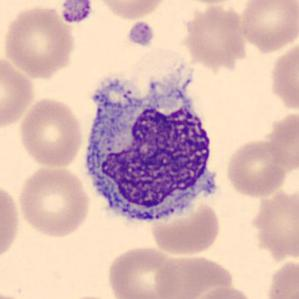Monocyte: (76, 72, 228, 232)
Platelets: (58, 0, 94, 25), (126, 19, 156, 48)
RBC: (1, 3, 78, 79), (16, 163, 92, 239), (16, 95, 84, 169), (180, 2, 249, 68), (104, 244, 186, 299), (148, 198, 223, 257), (224, 137, 292, 198), (152, 251, 236, 298), (237, 0, 298, 53), (256, 188, 299, 263), (0, 53, 36, 132), (268, 38, 298, 116), (264, 111, 299, 171), (0, 179, 22, 263), (93, 0, 170, 21), (264, 256, 298, 299), (187, 284, 258, 299), (175, 0, 244, 6)
